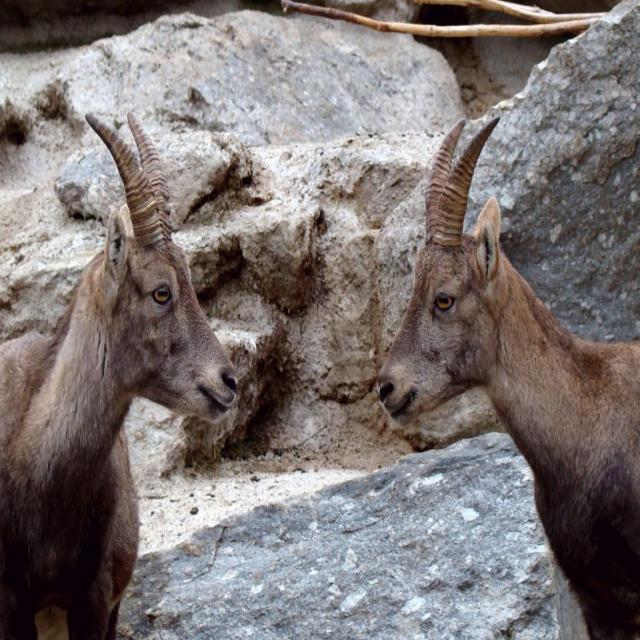Goat: (376, 114, 640, 638), (0, 114, 237, 639)
